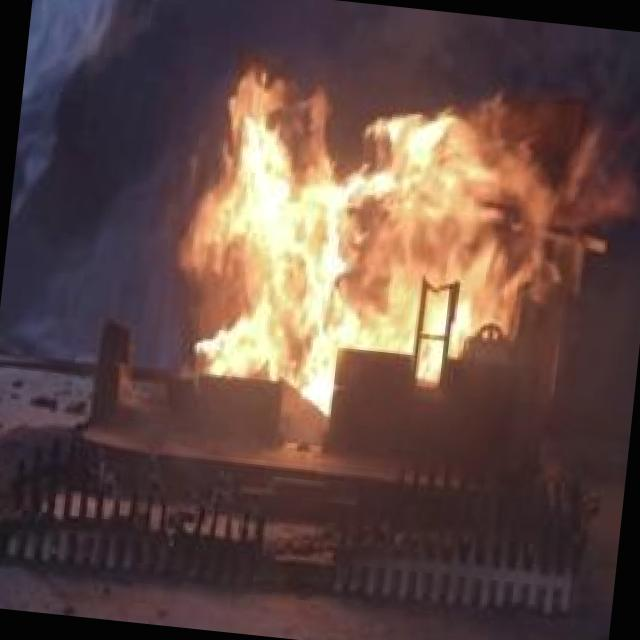fire: (177, 50, 602, 395)
